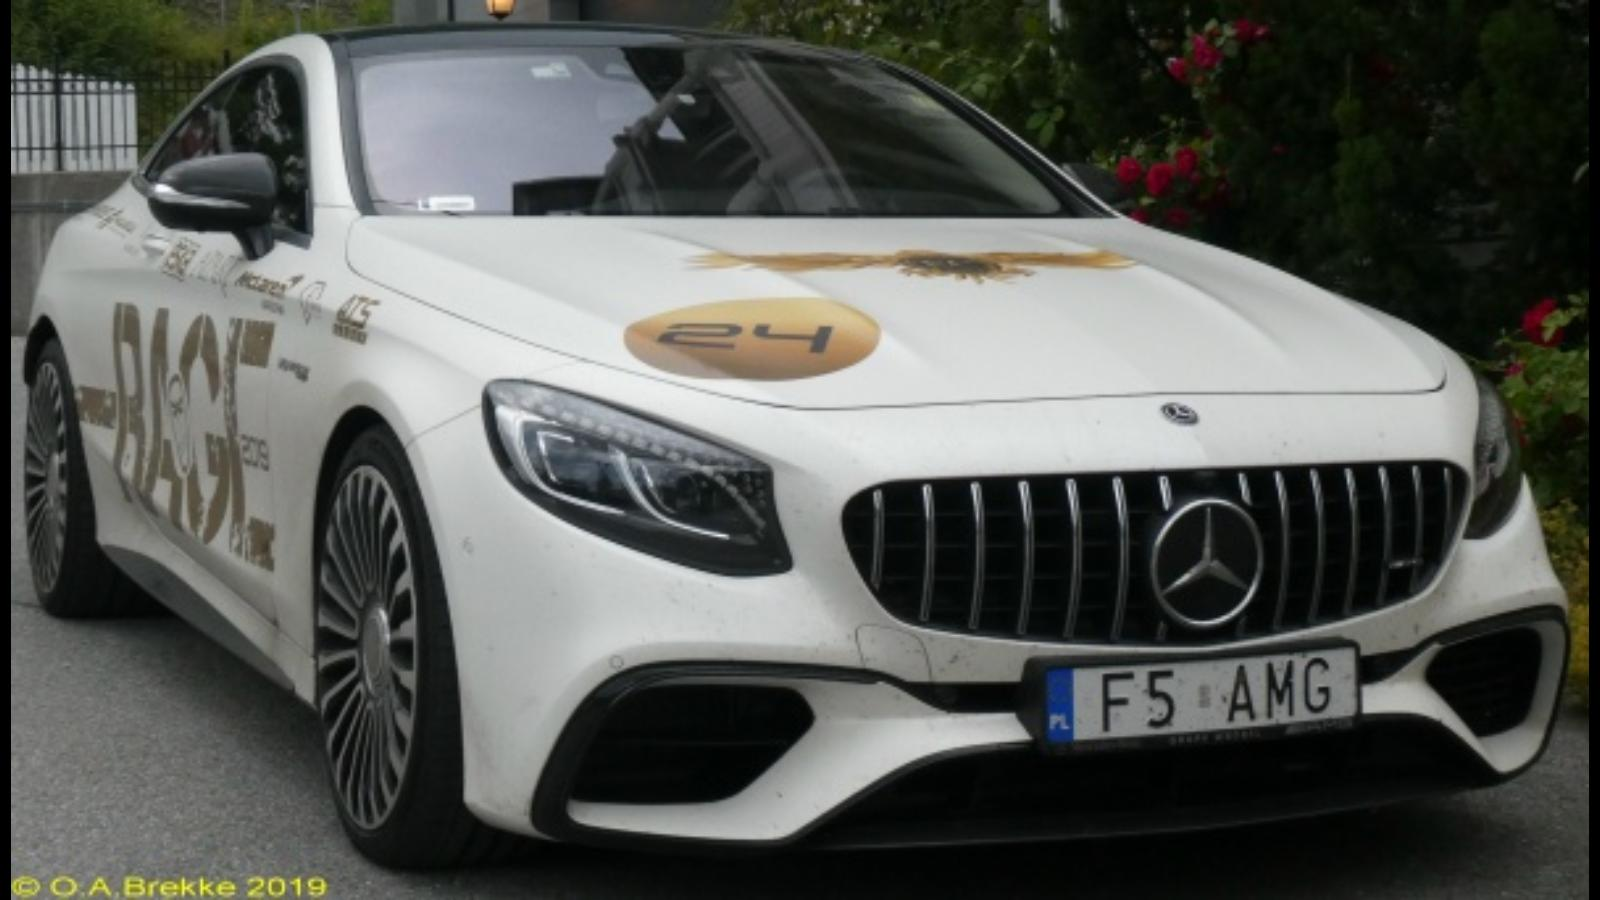plates: (1040, 639, 1362, 753)
